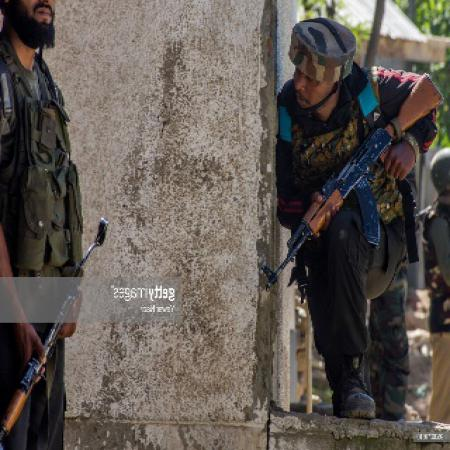2: (258, 64, 446, 290)
Pistol: (259, 121, 401, 296)
